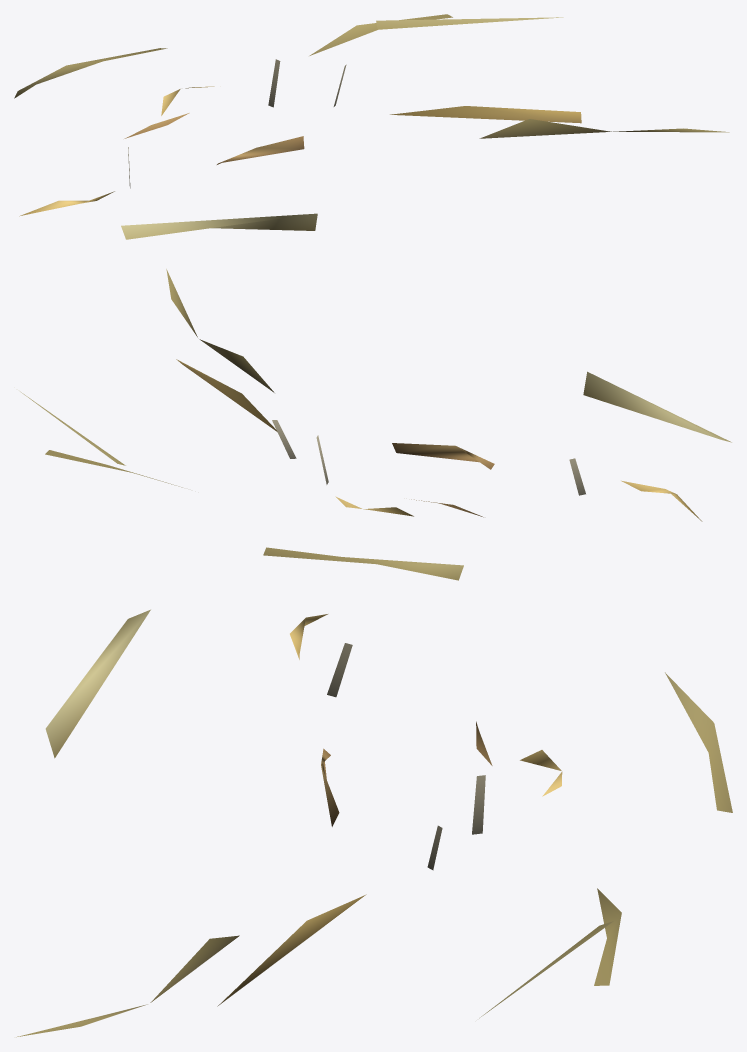
The model's file is StrawLitterMat_LOD2.glb.
The picture shows the model from 3 angles, top to bottom: view 1: azimuth 30°, elevation 25°; view 2: azimuth 150°, elevation 25°; view 3: azimuth 270°, elevation 25°; orthographic projection. The views are drawn at different scales.
Parts seen in each view (by area): view 1: StrawLitterMat_LOD2; view 2: StrawLitterMat_LOD2; view 3: StrawLitterMat_LOD2.
Part boxes in pixels (left/top/right/bottom): StrawLitterMat_LOD2: left=14, top=14, right=729, bottom=239; StrawLitterMat_LOD2: left=20, top=269, right=731, bottom=580; StrawLitterMat_LOD2: left=16, top=609, right=732, bottom=1037.
Size of the model in its own units: 0.392 by 0.0311 by 0.269.
